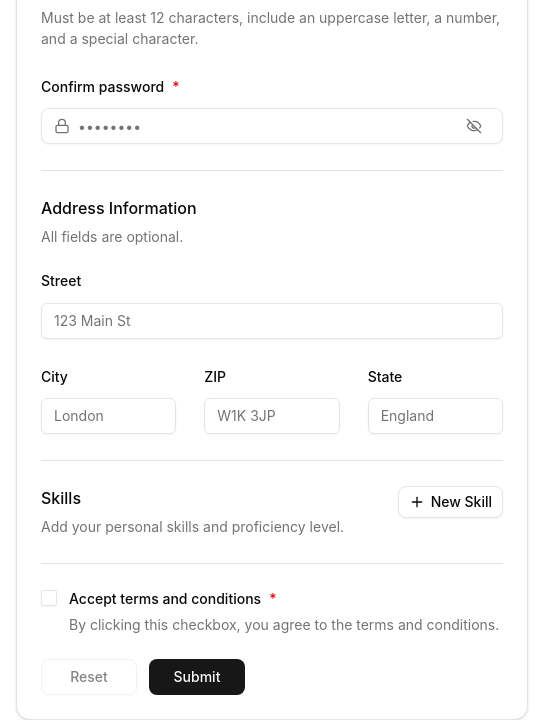
Test: RegisterForm › form display › pressing Escape on a new skill removes the entry
(page scrolled)
Click the button with aria-label "add new skill".
click(450, 502)  # box [398,486,503,518]
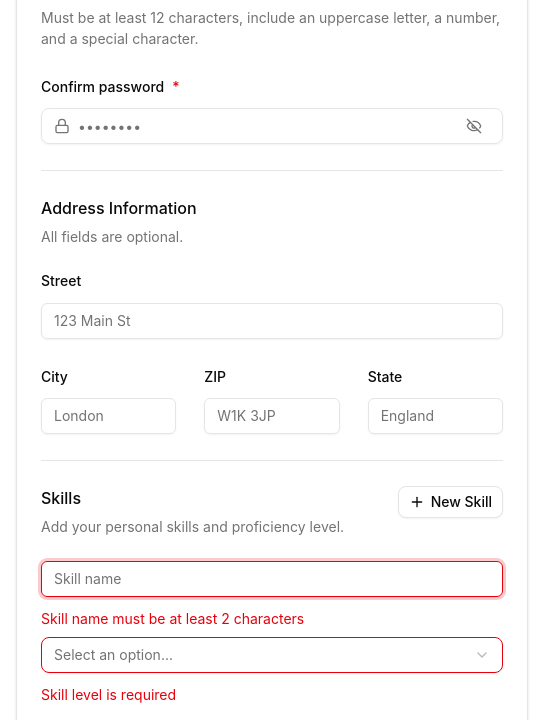
Press Escape
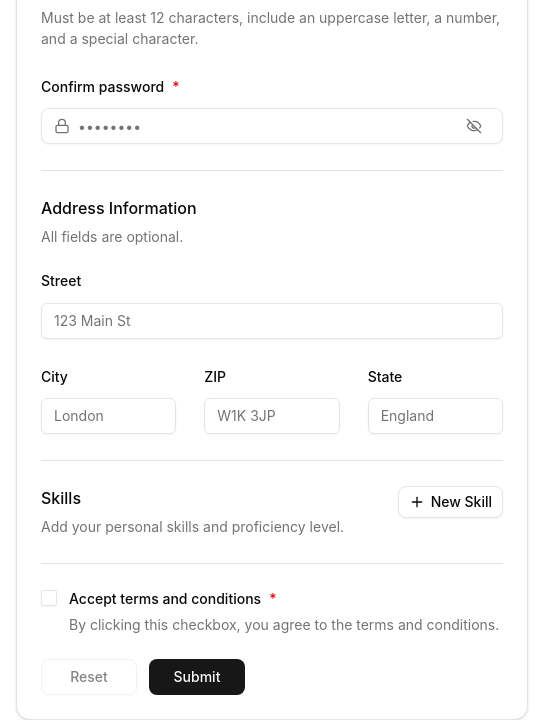
Result: the message labelled "Skill name" is gone
